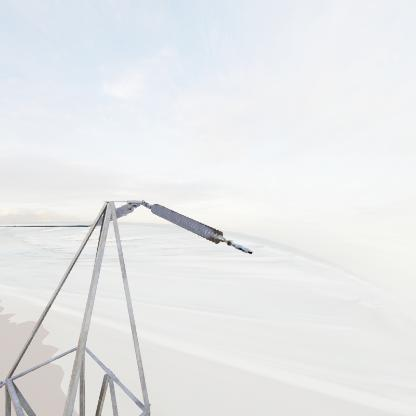insulator: (149, 203, 227, 247)
